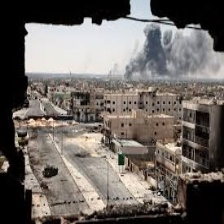smoke: (125, 28, 194, 74)
